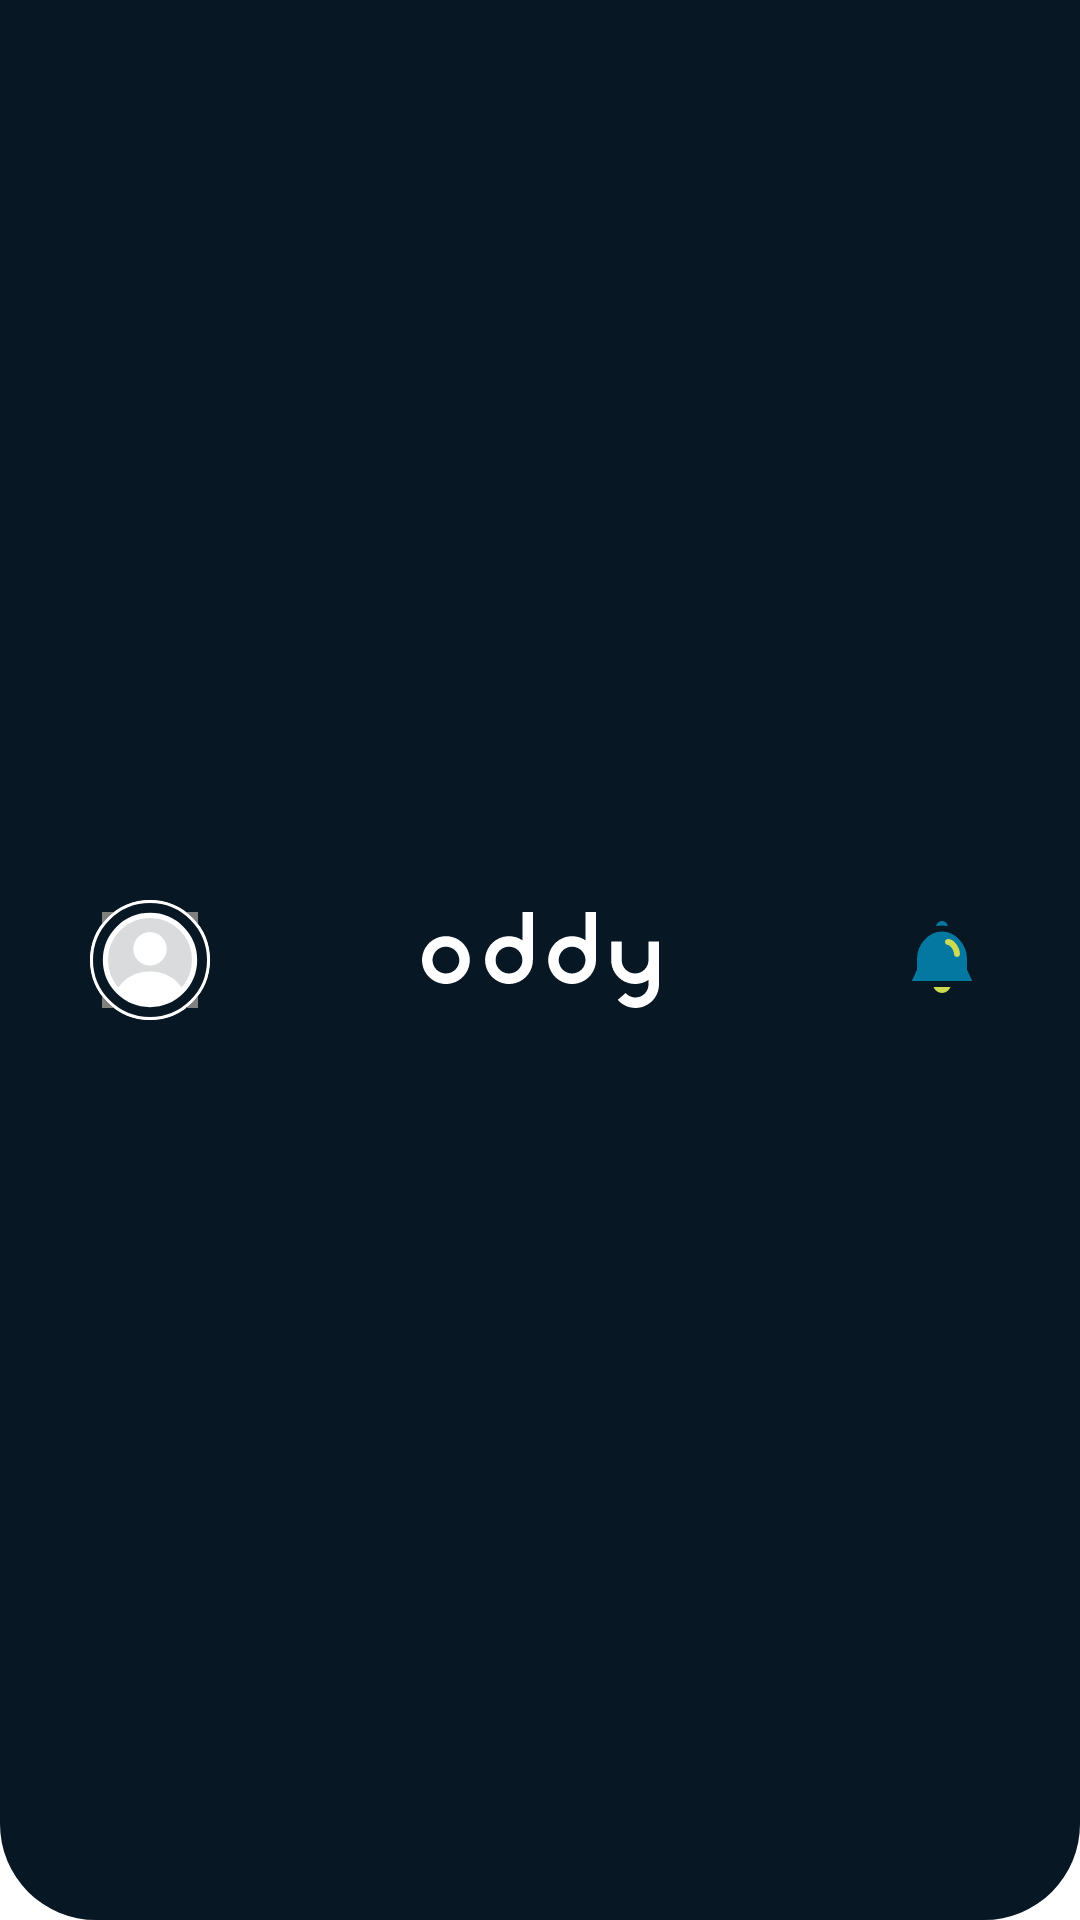

Named icons in this screenshot (1080*1920) and their bounding boxes, bbox=(x1, y1, x2, y2):
not logged in: bbox=(90, 900, 210, 1020)
notification: bbox=(912, 921, 972, 993)
